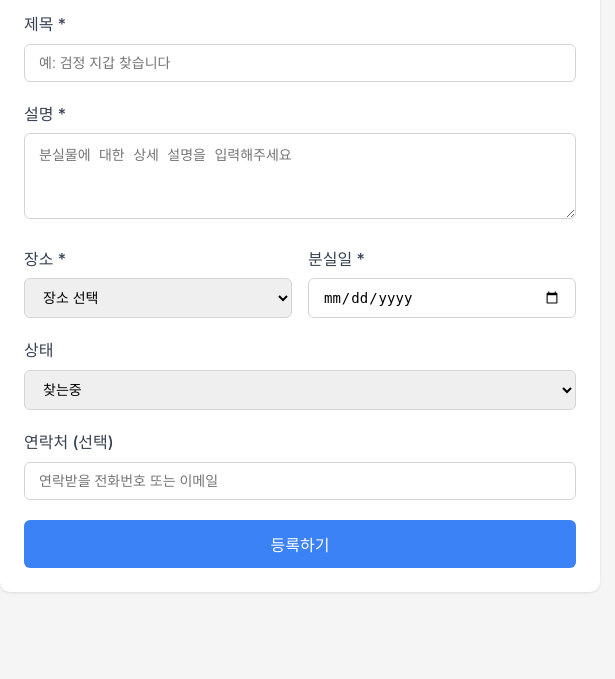
it: ItemForm › 제목이 2자 미만이면 에러를 표시한다
This screenshot has width=615, height=679.
Type "가" into the field labelled "제목 *" at (300,63), box [24,44,576,82]
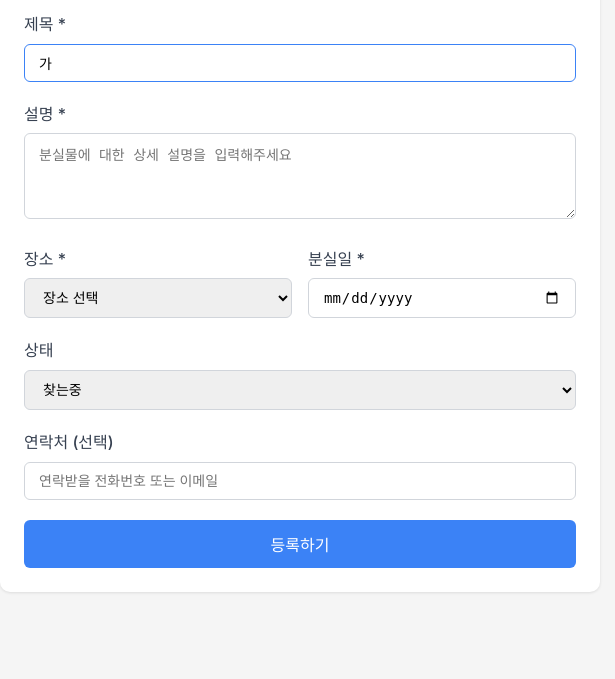
Click the button "등록하기" at (300,544), box [24,520,576,568]
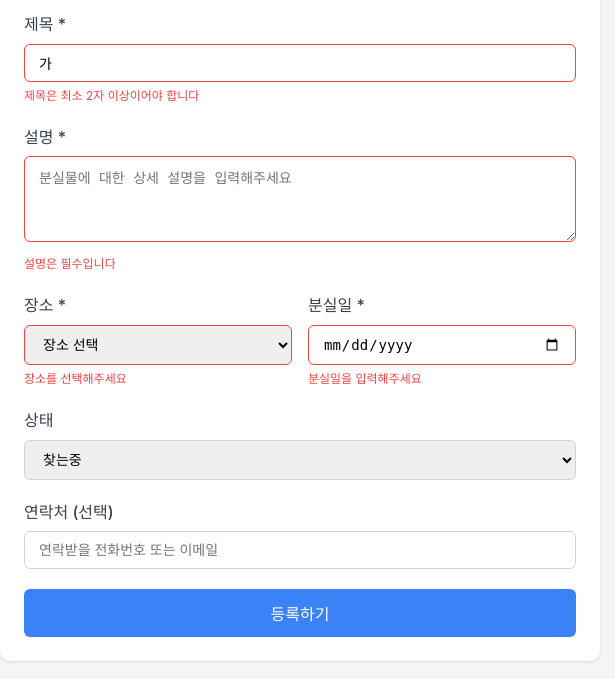
Expected: the text "제목은 최소 2자 이상이어야 합니다" is shown, [24,88,199,103]
